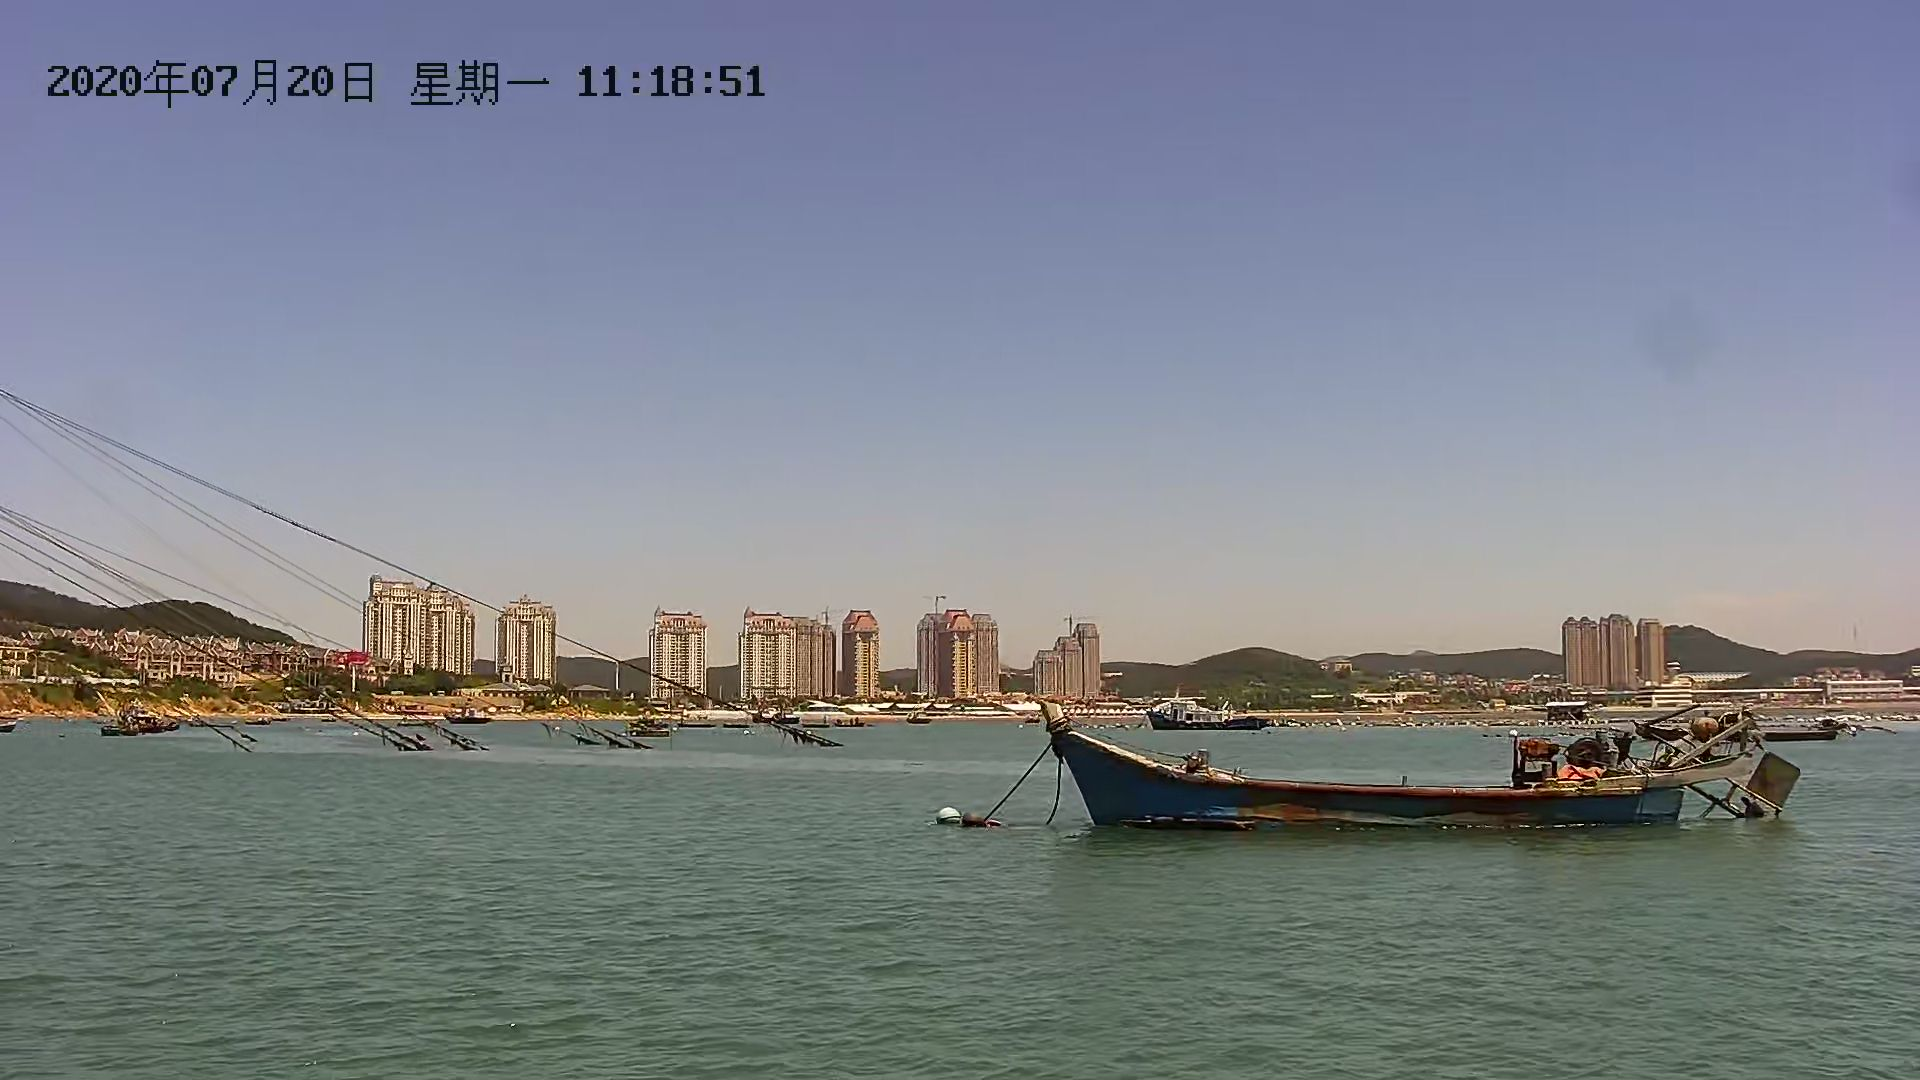ball: (934, 802, 964, 822), (969, 812, 989, 833)
boat: (1033, 694, 1825, 837), (1135, 698, 1270, 738), (91, 699, 183, 733)
